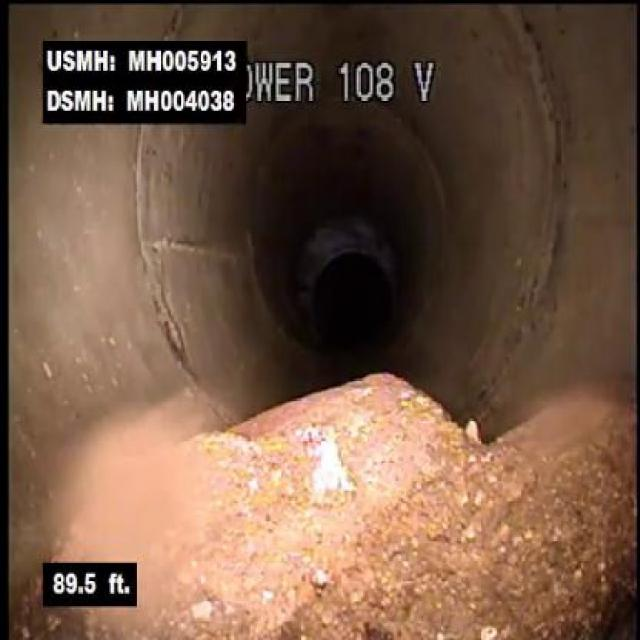Obstacle: (140, 318, 638, 638)
